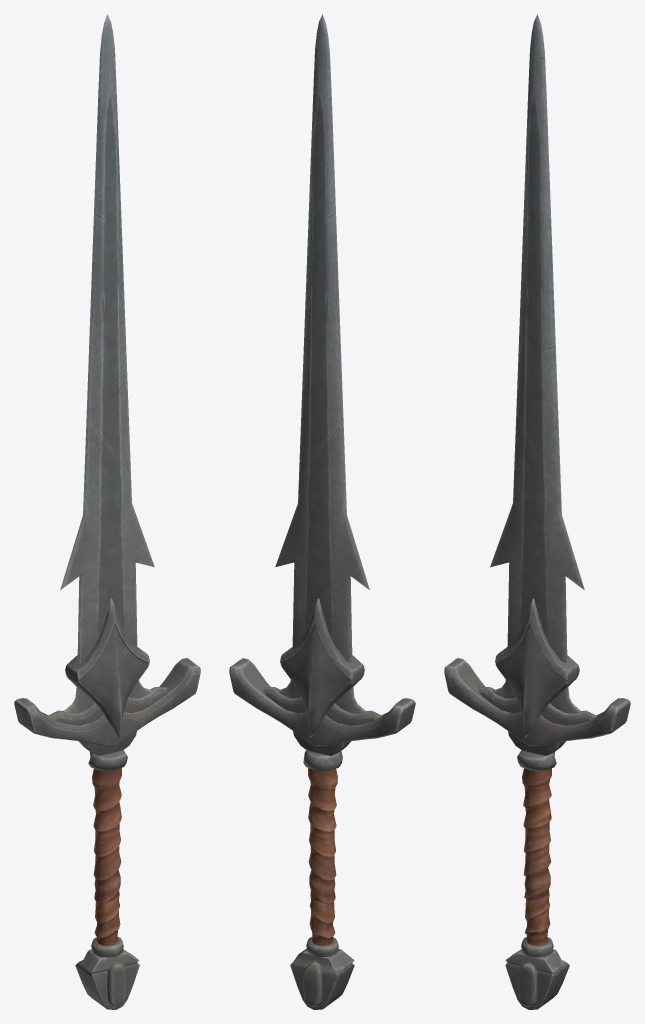
The picture shows the model from 3 angles, left to right: view 1: azimuth 30°, elevation 25°; view 2: azimuth 150°, elevation 25°; view 3: azimuth 330°, elevation 25°; orthographic projection.
Parts seen in each view (by area): view 1: SM_GreatSword_Iron_2H_01_LOD0; view 2: SM_GreatSword_Iron_2H_01_LOD0; view 3: SM_GreatSword_Iron_2H_01_LOD0.
Part boxes in pixels (<box>): SM_GreatSword_Iron_2H_01_LOD0: <box>14,14,200,1009</box>; SM_GreatSword_Iron_2H_01_LOD0: <box>229,14,415,1009</box>; SM_GreatSword_Iron_2H_01_LOD0: <box>444,14,630,1009</box>.
Size of the model in its own units: 0.3747 by 2.04 by 0.1067.
Materials: 1 (1 with a texture image).
